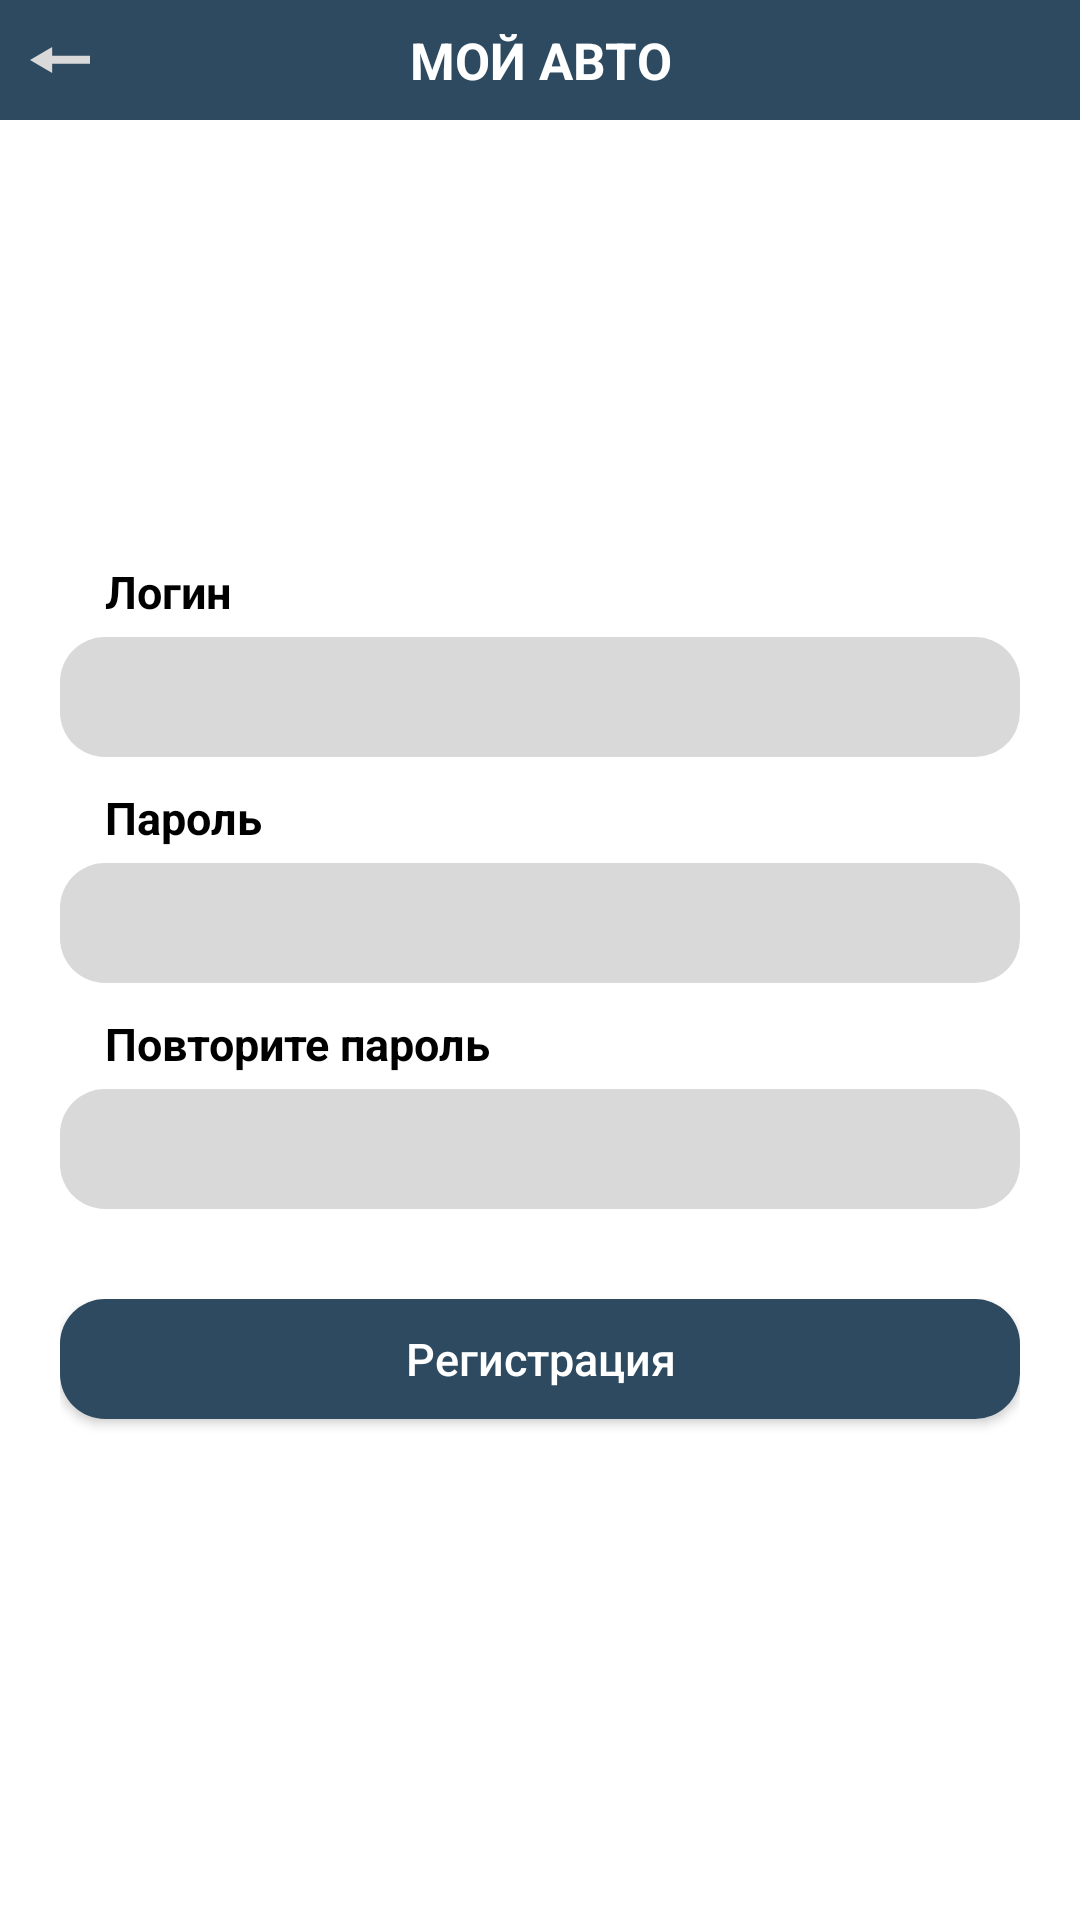

Icon bounding boxes for this 1080×1920 phone screenshot, format (x1, y1, x2, y2):
arrow: (30, 47, 90, 73)
